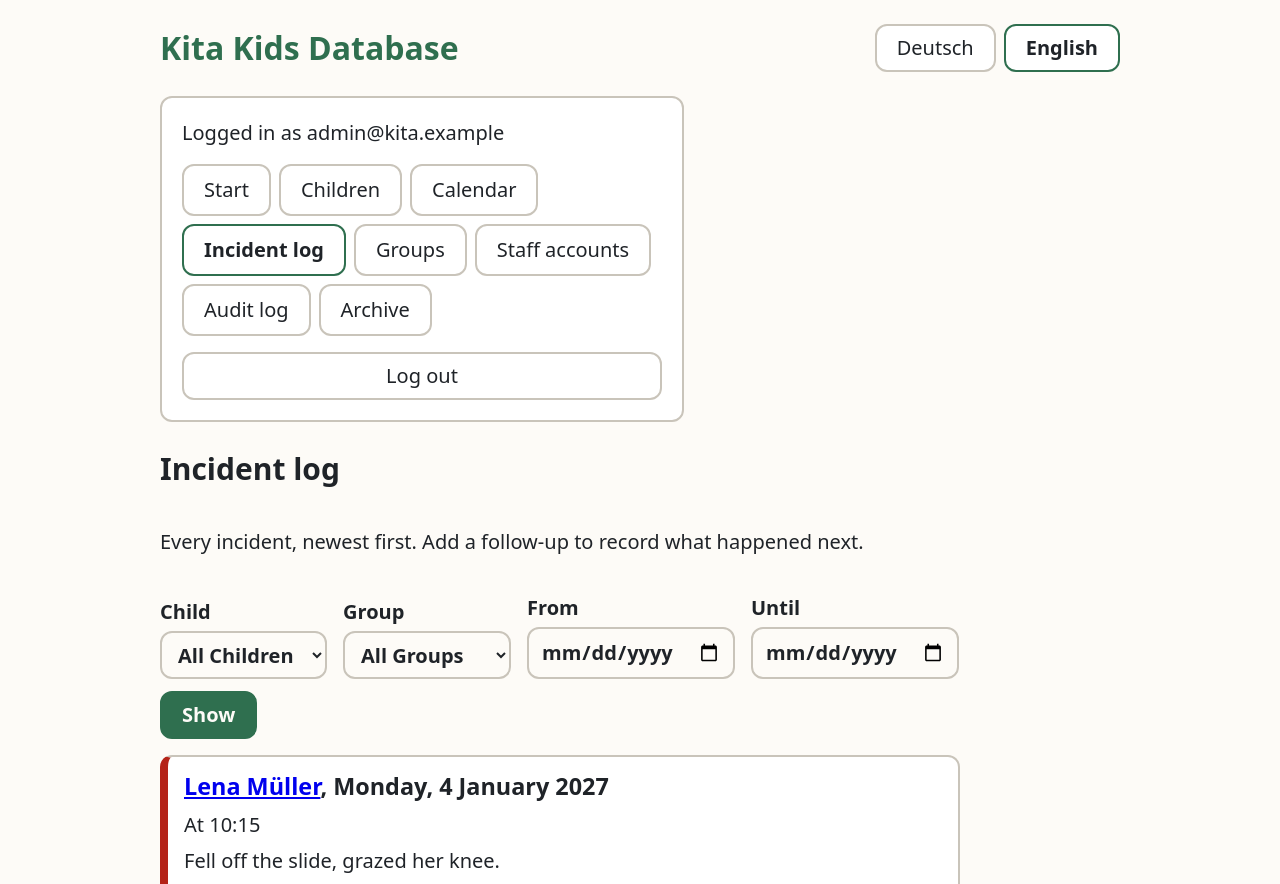
Test case: Incident log › lets an Admin filter the log and add a follow-up
This screenshot has width=1280, height=884.
Expected: the element named "Lena Müller, Monday, 4 January 2027" shows "10:15", [184,811,260,838]
Expected: the element named "Lena Müller, Monday, 4 January 2027" shows "Fell off the slide, grazed her knee.", [184,847,500,874]
Select "Lena Müller" in the dropdown labelled "Child": (244, 655) [160,631,327,679]
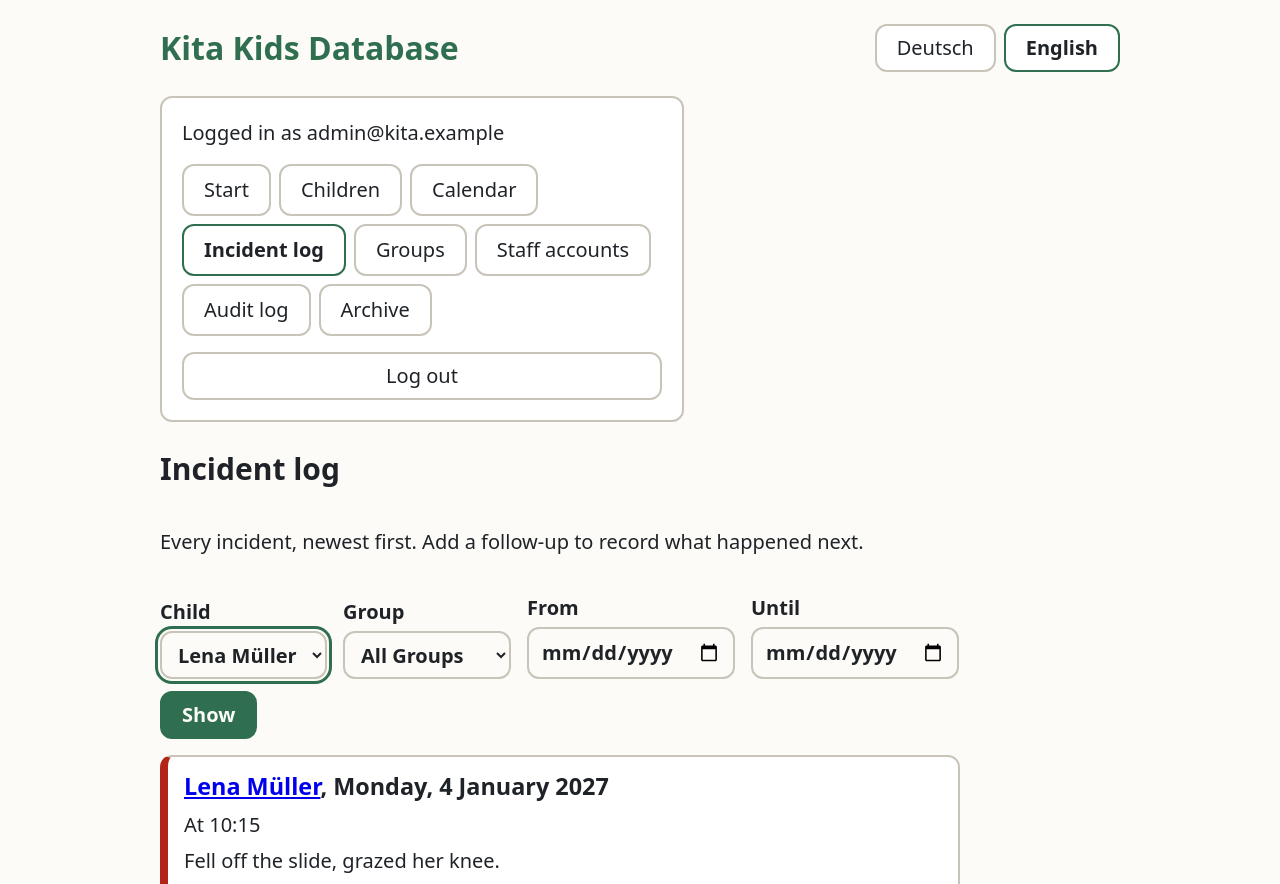
In the date field labelled "From": (631, 653) [527,627,735,679], type "2027-01-01"
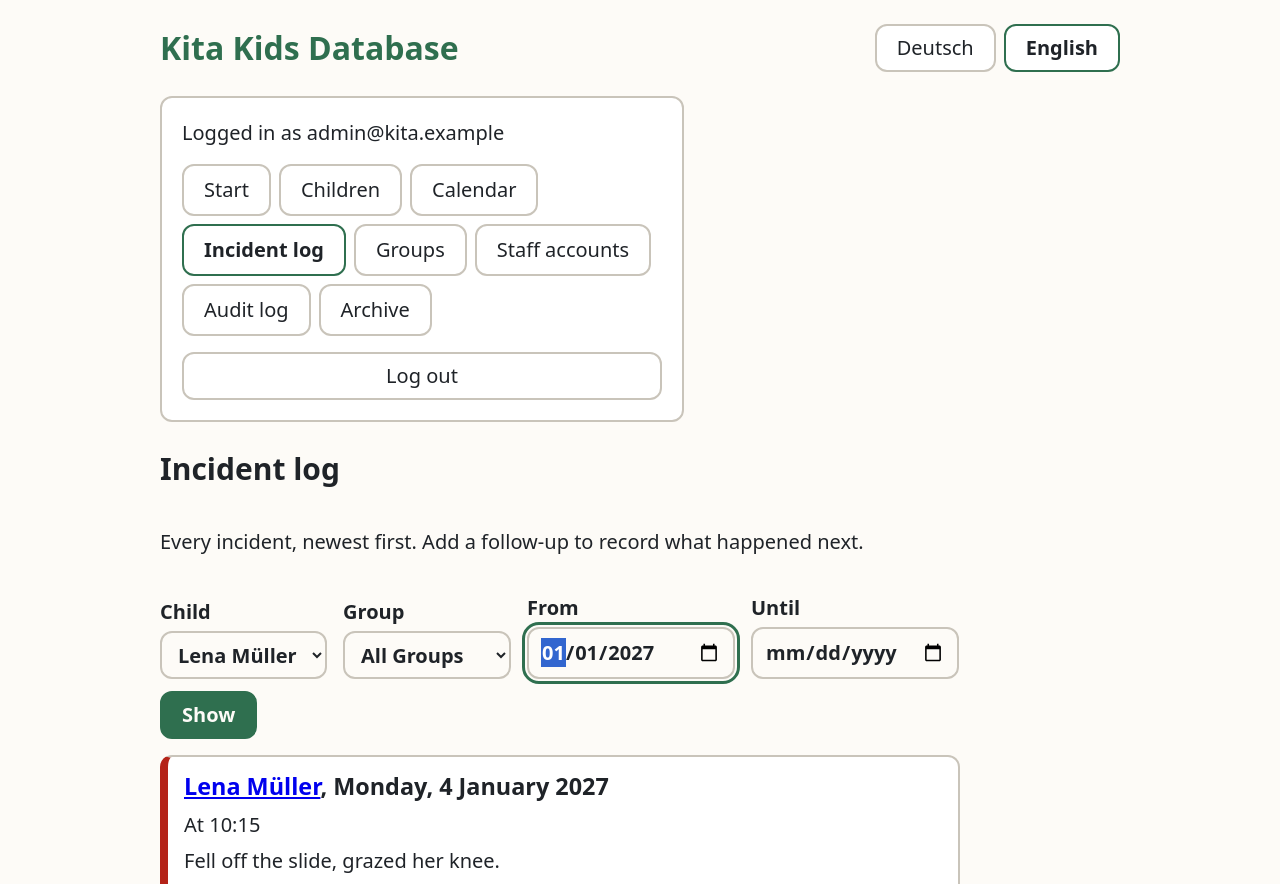
Click the button "Show": (209, 715) [160,691,257,739]
(page scrolled)
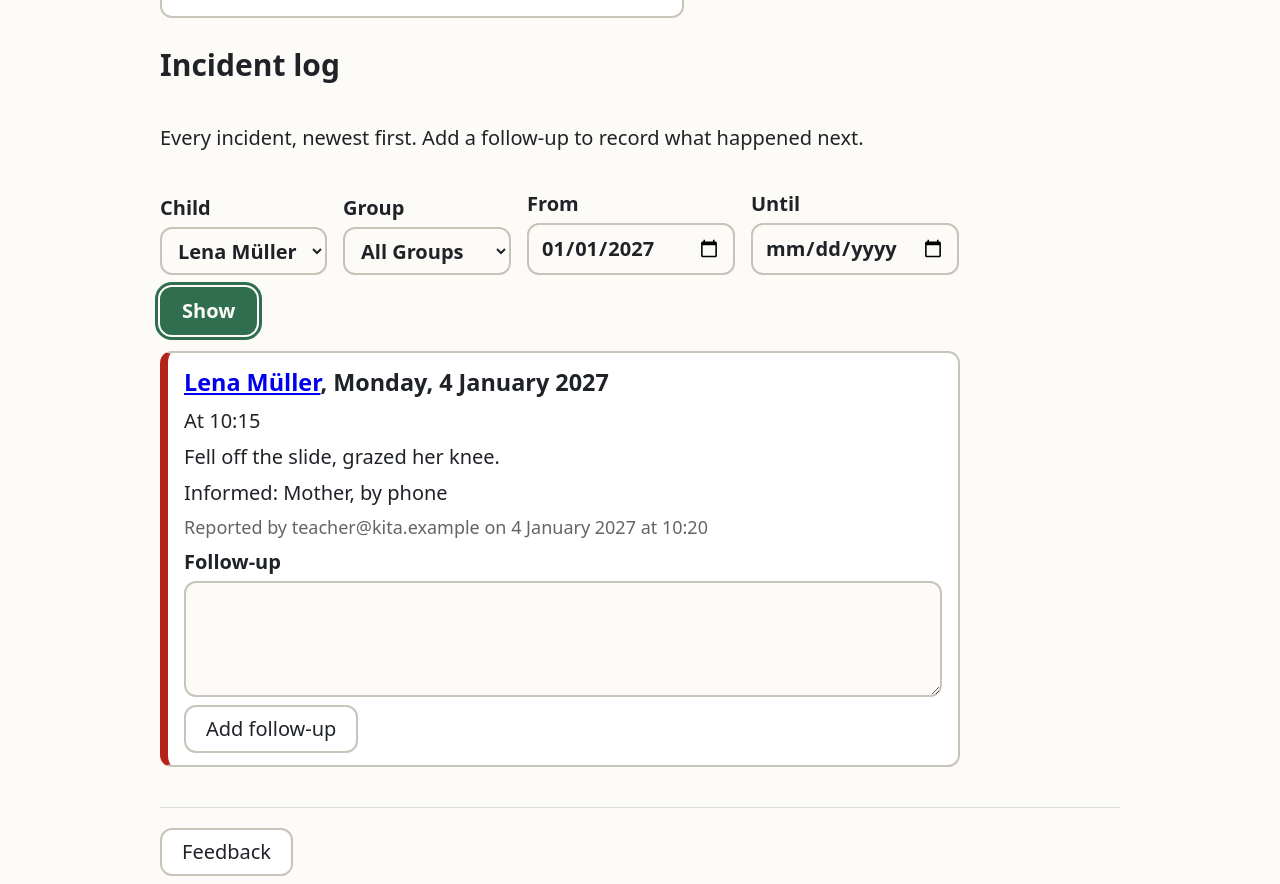
In the text box labelled "Follow-up": (563, 639) [184,581,942,697], type "Parents called back, all fine."
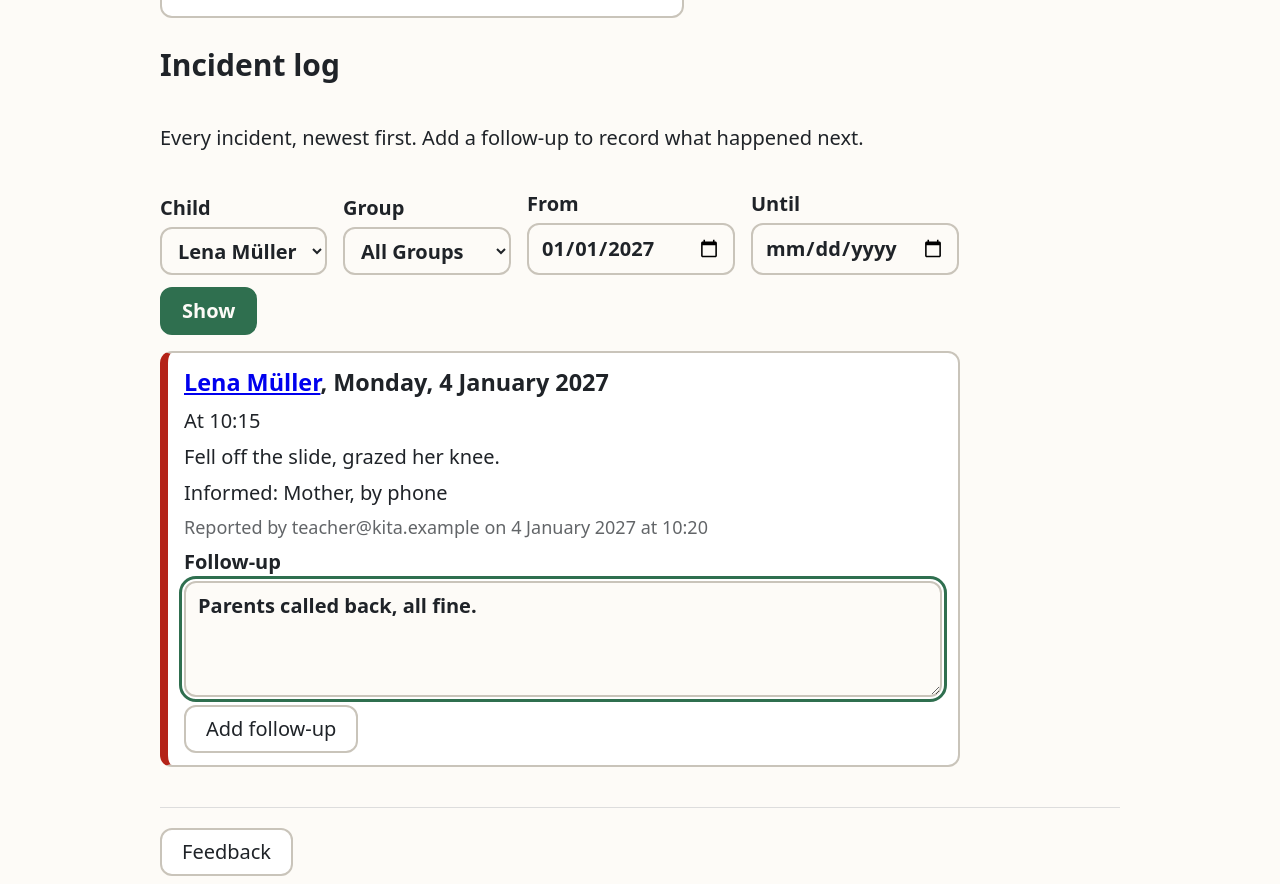
Click the button "Add follow-up": (271, 729) [184,705,358,753]
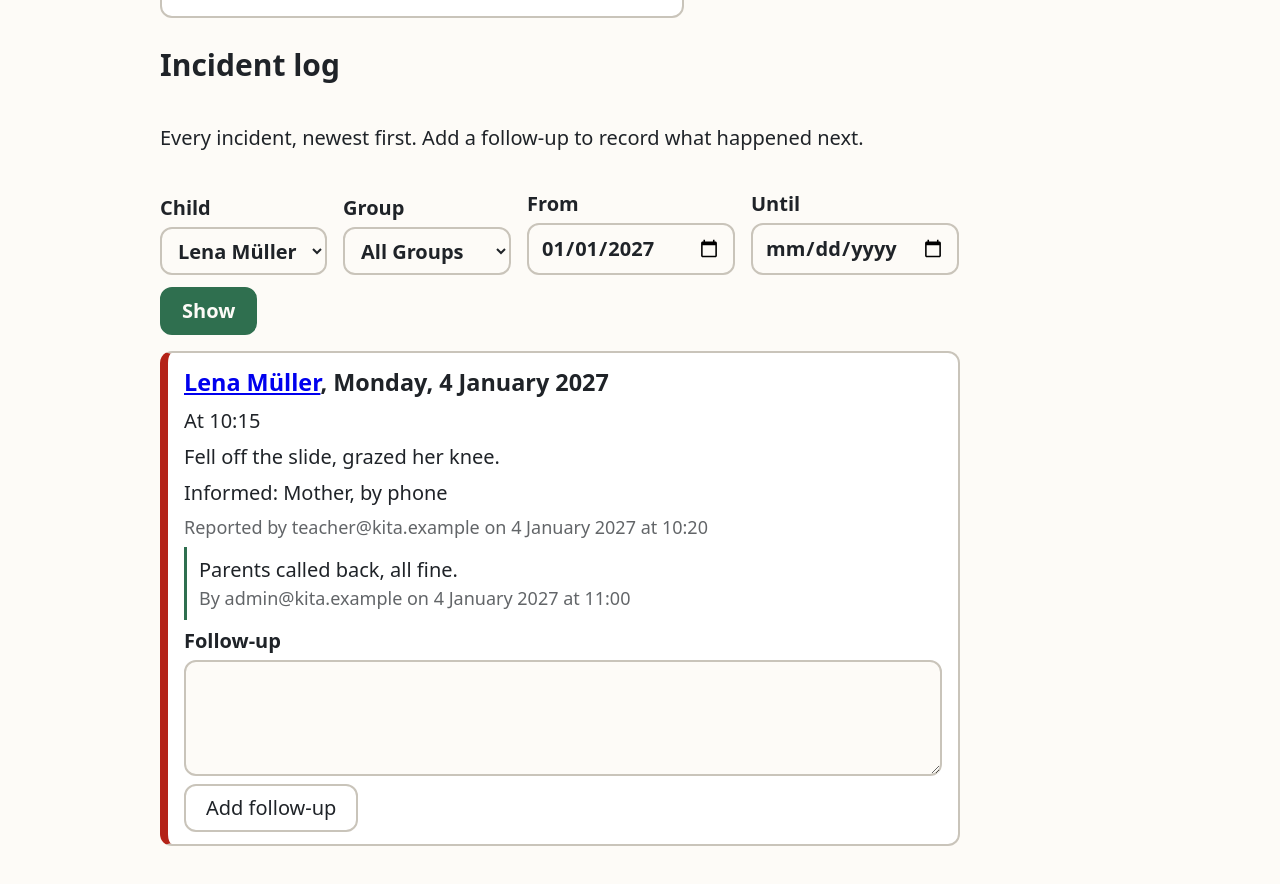
Now the text "Parents called back, all fine." is shown, box [199,556,458,583]
